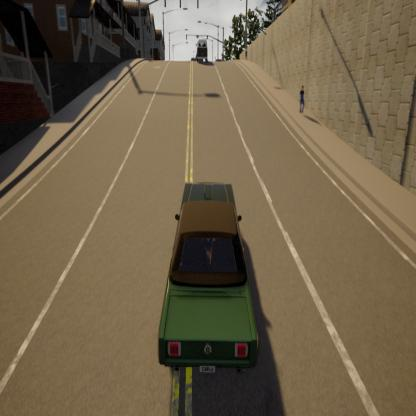Cars: (146, 162, 269, 390), (192, 35, 211, 65)
Pedestrian: (294, 76, 310, 119)
